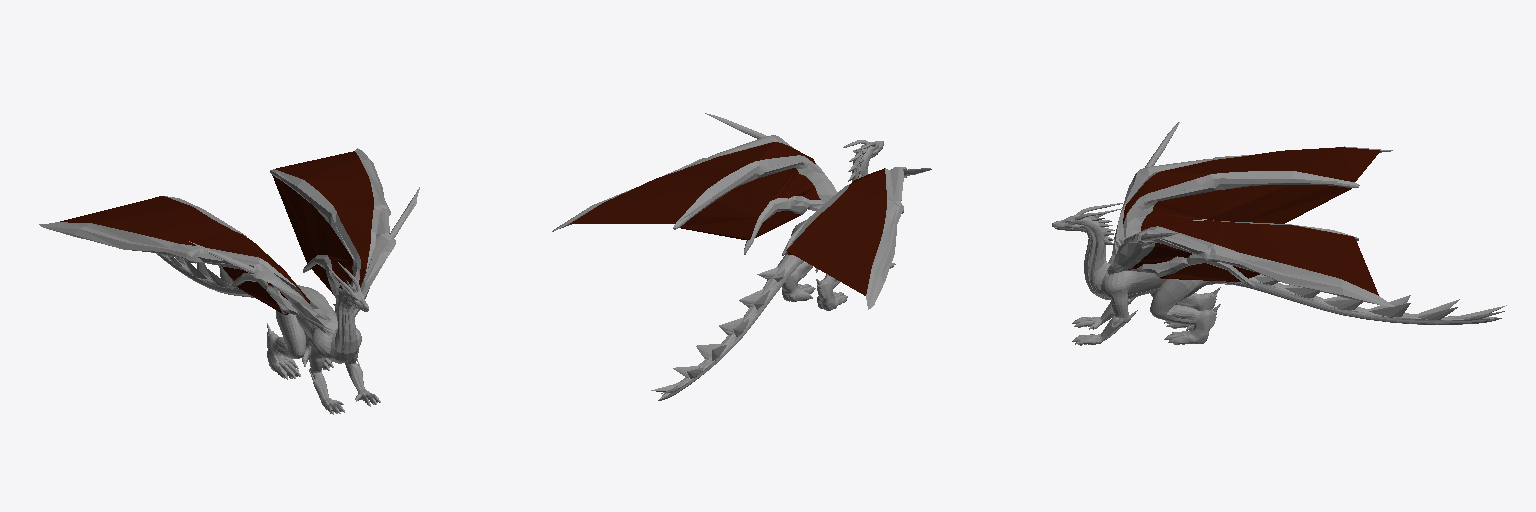
File: Dragon.obj
The picture shows the model from 3 angles: view 1: azimuth 30°, elevation 25°; view 2: azimuth 150°, elevation 25°; view 3: azimuth 270°, elevation 25°; orthographic projection.
Visible parts, largest first — view 1: Cube.001; view 2: Cube.001; view 3: Cube.001.
Boxes of the visible parts, box(x1,y1,x2,y2) form: Cube.001: box(39, 148, 419, 414); Cube.001: box(552, 113, 931, 400); Cube.001: box(1052, 122, 1506, 345).
Size of the model in its own units: 13.66 by 6.48 by 16.91.